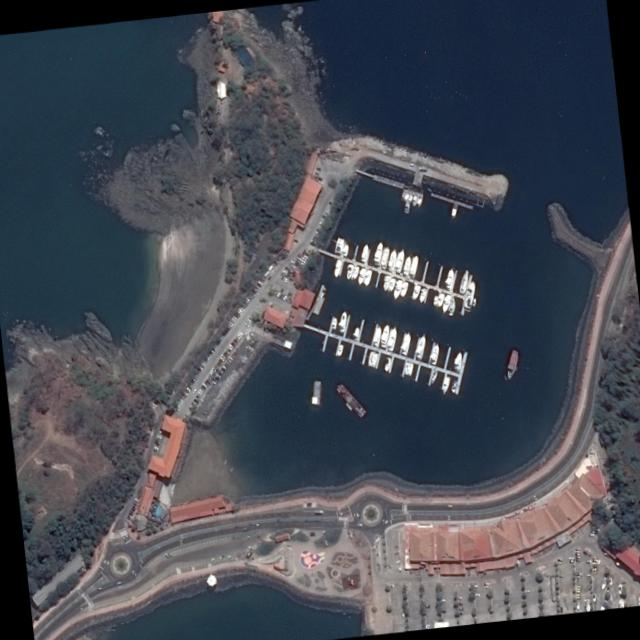ship: (334, 381, 368, 419), (503, 348, 521, 381), (462, 280, 477, 311), (413, 333, 428, 361), (457, 268, 471, 295), (385, 326, 399, 352), (428, 342, 441, 366), (386, 247, 398, 273), (394, 248, 406, 274), (408, 254, 420, 279), (400, 332, 412, 356), (311, 380, 322, 405), (379, 323, 390, 348), (452, 350, 465, 371), (445, 266, 456, 290), (380, 245, 391, 269), (373, 241, 383, 267), (440, 374, 452, 395), (366, 349, 379, 368), (337, 310, 348, 332), (371, 325, 382, 347), (392, 278, 403, 299), (402, 255, 412, 277), (441, 293, 452, 313), (362, 268, 373, 287), (402, 360, 414, 377), (448, 296, 458, 316), (357, 266, 367, 286), (360, 242, 370, 262), (382, 355, 392, 373), (334, 238, 345, 254), (333, 258, 342, 277), (418, 286, 428, 303), (411, 283, 421, 300), (400, 280, 410, 297), (381, 274, 391, 291), (430, 367, 439, 385), (335, 342, 345, 358), (436, 291, 446, 307), (450, 203, 459, 220), (345, 263, 354, 280), (330, 316, 338, 334), (351, 264, 360, 280), (352, 326, 362, 340), (341, 242, 350, 257), (406, 189, 414, 204), (416, 193, 423, 208), (388, 277, 395, 292), (412, 192, 419, 206), (431, 294, 439, 306), (451, 379, 458, 392), (403, 200, 410, 213), (403, 188, 410, 201), (601, 577, 608, 589), (400, 188, 406, 198), (575, 601, 580, 610), (618, 584, 622, 595), (460, 306, 464, 316), (473, 298, 477, 306), (593, 593, 596, 602), (609, 577, 612, 586)
small-vehicle: (154, 440, 159, 445), (235, 337, 240, 342), (188, 382, 193, 387), (210, 557, 215, 562), (206, 379, 211, 384), (250, 291, 255, 296), (258, 280, 263, 285), (315, 510, 323, 513), (290, 264, 296, 268), (134, 498, 139, 502), (245, 322, 249, 327), (151, 404, 155, 409), (395, 549, 399, 554), (236, 335, 241, 339), (196, 369, 201, 373), (186, 386, 190, 391), (219, 555, 223, 560), (303, 254, 308, 258), (301, 259, 306, 263), (300, 261, 304, 266), (221, 332, 226, 336), (178, 400, 182, 405), (208, 375, 212, 380), (209, 373, 214, 377), (192, 388, 196, 393), (210, 370, 214, 375), (220, 357, 225, 361), (222, 354, 226, 359), (227, 347, 231, 352), (228, 345, 232, 350), (229, 344, 234, 348), (231, 342, 236, 346), (233, 340, 237, 345), (192, 400, 197, 404), (230, 318, 234, 323), (231, 316, 235, 321), (233, 315, 237, 320), (234, 313, 239, 317), (236, 311, 240, 316), (256, 284, 260, 289), (337, 512, 343, 515), (395, 543, 399, 547), (133, 501, 137, 505), (157, 435, 161, 439), (157, 432, 161, 436), (246, 320, 250, 324), (248, 318, 252, 322), (232, 352, 236, 356), (230, 356, 234, 360), (223, 365, 227, 369), (221, 367, 225, 371), (218, 371, 222, 375), (217, 373, 221, 377), (215, 376, 219, 380), (153, 403, 157, 407), (239, 331, 243, 335), (238, 333, 242, 337), (210, 348, 214, 352), (208, 352, 212, 356), (202, 362, 206, 366), (198, 365, 202, 369), (194, 373, 198, 377), (193, 375, 197, 379), (192, 377, 196, 381), (190, 379, 194, 383), (184, 391, 188, 395), (179, 398, 183, 402), (214, 343, 218, 347), (219, 336, 223, 340), (295, 262, 299, 266), (296, 259, 300, 263), (297, 256, 301, 260), (302, 256, 306, 260), (224, 328, 228, 332), (223, 330, 227, 334), (176, 404, 180, 408), (197, 393, 201, 397), (199, 388, 203, 392), (200, 387, 204, 391), (203, 383, 207, 387), (211, 369, 215, 373), (212, 367, 216, 371), (219, 358, 223, 362), (226, 349, 230, 353), (234, 339, 238, 343), (198, 390, 202, 394), (195, 395, 199, 399), (228, 323, 232, 327), (229, 321, 233, 325), (237, 310, 241, 314), (241, 304, 245, 308), (244, 301, 248, 305), (245, 299, 249, 303), (247, 297, 251, 301), (252, 290, 256, 294), (190, 404, 194, 408), (153, 446, 158, 449), (525, 589, 530, 592), (202, 384, 205, 389), (132, 505, 136, 508), (130, 509, 133, 513), (128, 514, 131, 518), (125, 518, 129, 521), (233, 350, 237, 353), (232, 354, 235, 358), (228, 359, 232, 362), (220, 369, 223, 373), (214, 378, 217, 382), (213, 380, 216, 384), (154, 400, 157, 404), (209, 350, 213, 353), (206, 354, 210, 357), (205, 356, 209, 359), (203, 360, 207, 363), (200, 364, 204, 367), (198, 367, 201, 371), (195, 372, 199, 375), (183, 393, 186, 397), (182, 395, 185, 399), (213, 345, 216, 349), (485, 582, 489, 585), (290, 260, 294, 263), (226, 326, 229, 330), (221, 334, 224, 338), (177, 402, 180, 406), (239, 308, 242, 312), (240, 306, 243, 310), (243, 303, 246, 307), (249, 295, 252, 299), (249, 294, 253, 297), (475, 593, 480, 595), (132, 507, 135, 510), (129, 512, 132, 515), (227, 361, 230, 364), (225, 363, 228, 366), (216, 341, 219, 344)
